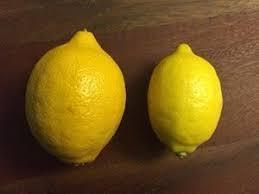lemon: (24, 28, 126, 166), (147, 44, 223, 158)
